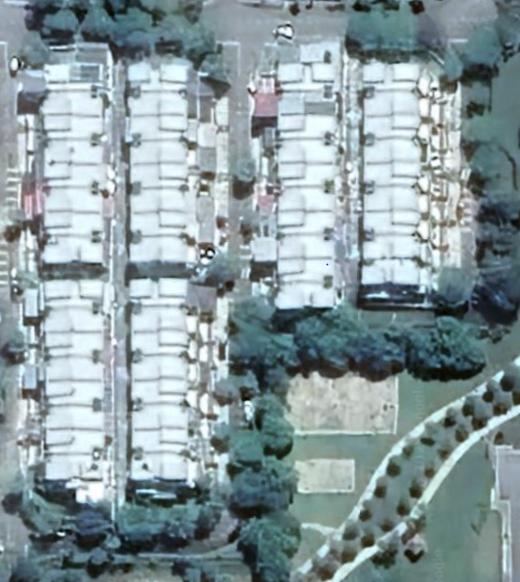building: (16, 37, 120, 95), (17, 276, 117, 324), (127, 448, 210, 505), (358, 59, 451, 103), (270, 40, 343, 95), (126, 276, 217, 320), (359, 188, 459, 227), (128, 374, 220, 416), (38, 458, 111, 510), (362, 215, 463, 252), (126, 111, 220, 150), (360, 237, 464, 272), (359, 141, 460, 177), (125, 325, 215, 364), (360, 165, 460, 200), (360, 261, 442, 299), (20, 359, 109, 394), (248, 91, 344, 123), (125, 231, 201, 271), (360, 118, 455, 150), (127, 350, 213, 385), (127, 303, 211, 338), (361, 93, 450, 125), (19, 192, 110, 223), (12, 94, 109, 121), (22, 167, 109, 195), (31, 240, 108, 271), (29, 213, 111, 242), (38, 381, 111, 413), (123, 206, 200, 236), (123, 56, 193, 89), (22, 117, 110, 143), (23, 142, 110, 168), (36, 308, 110, 338), (34, 333, 110, 361), (124, 183, 199, 210), (39, 433, 110, 461), (269, 284, 340, 312), (273, 165, 340, 193), (271, 140, 340, 167), (271, 189, 340, 216), (125, 160, 195, 186), (273, 118, 343, 144), (129, 399, 195, 426), (275, 237, 338, 265), (126, 425, 195, 450), (271, 213, 340, 238), (37, 410, 111, 433), (274, 262, 339, 288), (126, 137, 194, 161), (122, 88, 190, 112)
